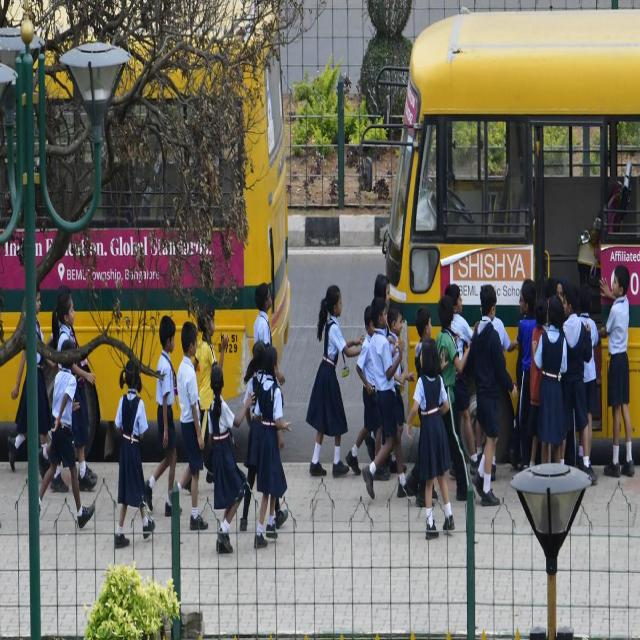bus: (386, 10, 640, 429)
